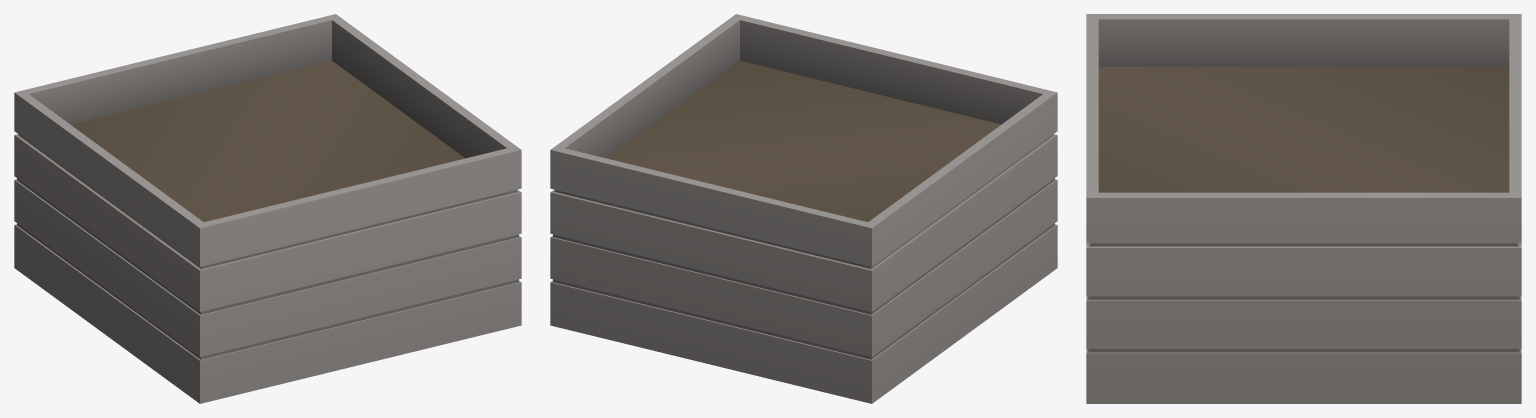
File: flowerbed 1.fbx
The picture shows the model from 3 angles, left to right: view 1: azimuth 30°, elevation 25°; view 2: azimuth 150°, elevation 25°; view 3: azimuth 270°, elevation 25°; orthographic projection. The views are drawn at different scales.
Visible parts, largest first — view 1: Cube.654; view 2: Cube.654; view 3: Cube.654.
Boxes of the visible parts, x1,y1,x2,y2 form: Cube.654: (14, 14, 521, 403); Cube.654: (550, 14, 1057, 403); Cube.654: (1086, 14, 1521, 403).
Size of the model in its own units: 170 by 88.87 by 170.
